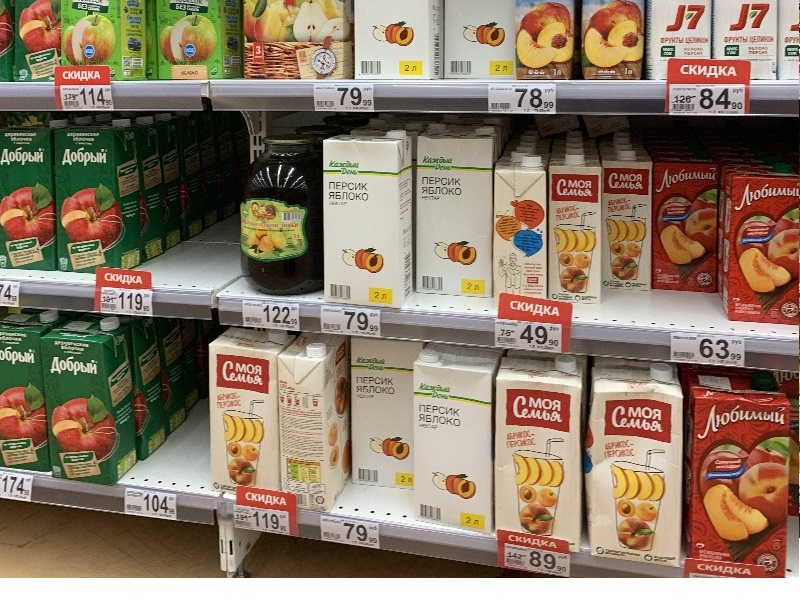juice: (675, 366, 794, 576), (40, 314, 145, 489), (48, 116, 140, 279), (644, 148, 731, 298)
